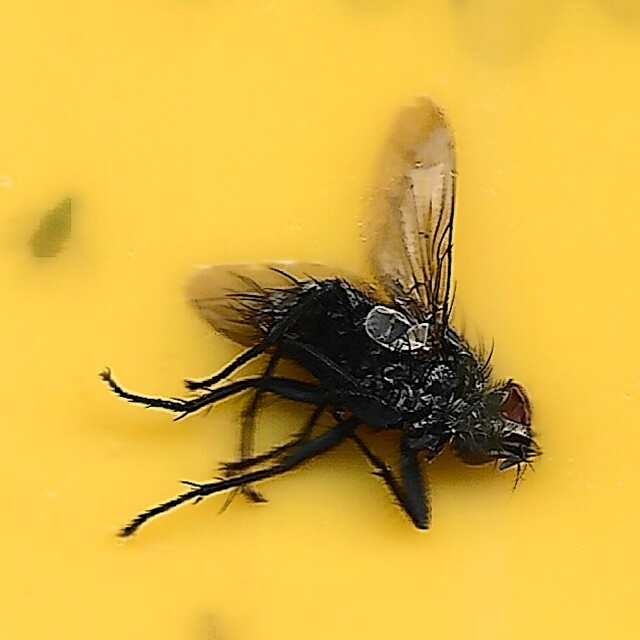Brachycera: (100, 100, 540, 540)
